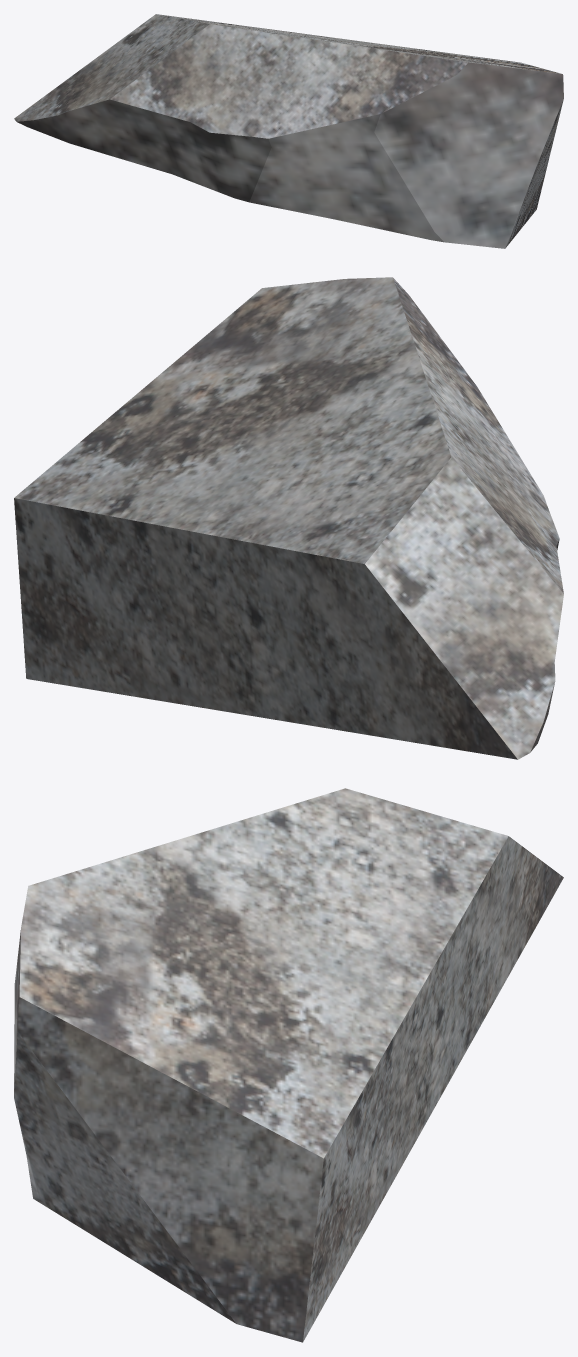
Rendered from Asteroid_Large_001_02_009_03_052.fbx.
3 renders of one model, top to bottom at view 1: azimuth 30°, elevation 25°; view 2: azimuth 150°, elevation 25°; view 3: azimuth 270°, elevation 25°, orthographic. The views are drawn at different scales.
Visible parts, largest first — view 1: Asteroid_Large_001_02_009_03_052; view 2: Asteroid_Large_001_02_009_03_052; view 3: Asteroid_Large_001_02_009_03_052.
Part boxes in pixels (bbox=[...]): Asteroid_Large_001_02_009_03_052: bbox=[14, 14, 563, 248]; Asteroid_Large_001_02_009_03_052: bbox=[14, 277, 563, 759]; Asteroid_Large_001_02_009_03_052: bbox=[14, 788, 563, 1342].
Size of the model in its own units: 11.81 by 6.35 by 9.09.
